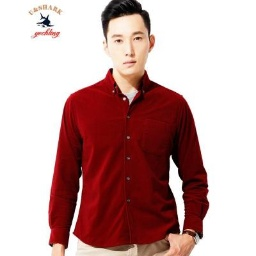face: (99, 1, 156, 78)
